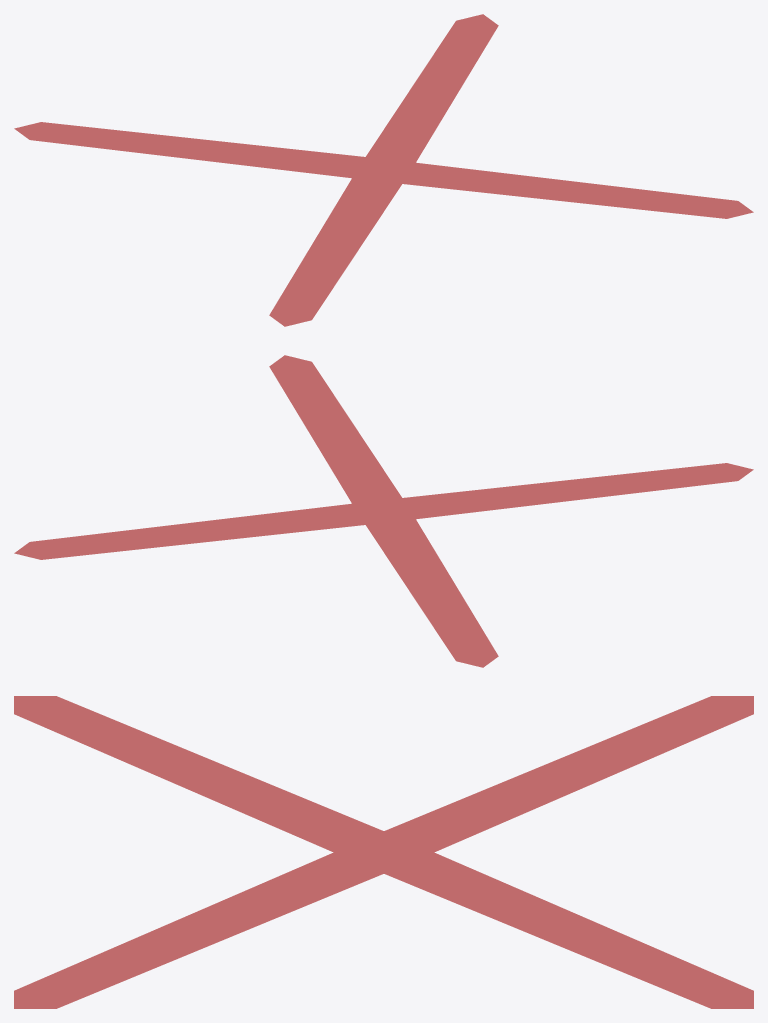
Rendered from CanAttack.fbx.
The picture shows the model from 3 angles, top to bottom: view 1: azimuth 30°, elevation 25°; view 2: azimuth 150°, elevation 25°; view 3: azimuth 270°, elevation 25°; orthographic projection. The views are drawn at different scales.
Parts seen in each view (by area): view 1: CanAttack; view 2: CanAttack; view 3: CanAttack.
Part boxes in pixels (x1,y1,x2,y2): CanAttack: [14, 14, 753, 326]; CanAttack: [14, 355, 753, 667]; CanAttack: [14, 696, 753, 1008].
Bounding box in the file's own units: 98 × 0 × 98.
